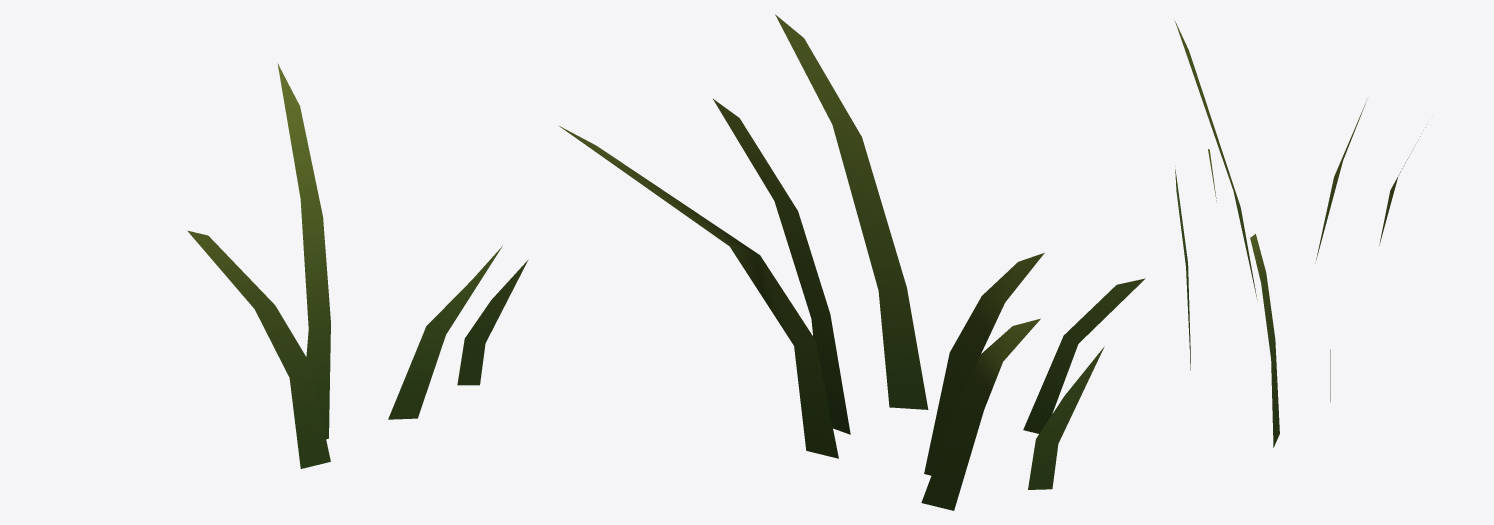
File: grass_small.glb
3 renders of one model, left to right at view 1: azimuth 30°, elevation 25°; view 2: azimuth 150°, elevation 25°; view 3: azimuth 270°, elevation 25°, orthographic. The views are drawn at different scales.
Visible parts, largest first — view 1: Grass_Small; view 2: Grass_Small; view 3: Grass_Small.
Boxes of the visible parts, x1=… form: Grass_Small: x1=187, y1=63, x2=528, y2=468; Grass_Small: x1=558, y1=14, x2=1145, y2=510; Grass_Small: x1=1175, y1=21, x2=1425, y2=447.
Bounding box in the file's own units: 0.47 × 0.3941 × 0.2775.
1 material, 1 textured.
